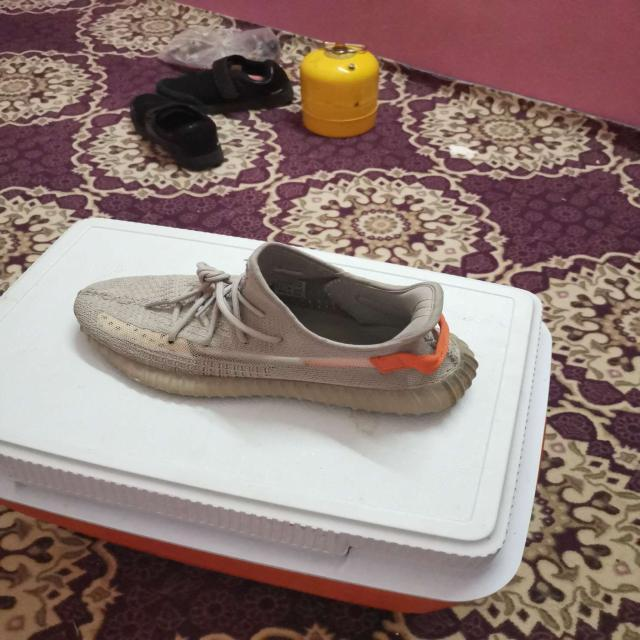shoe: (70, 240, 480, 420), (152, 52, 295, 110), (130, 91, 223, 170)
